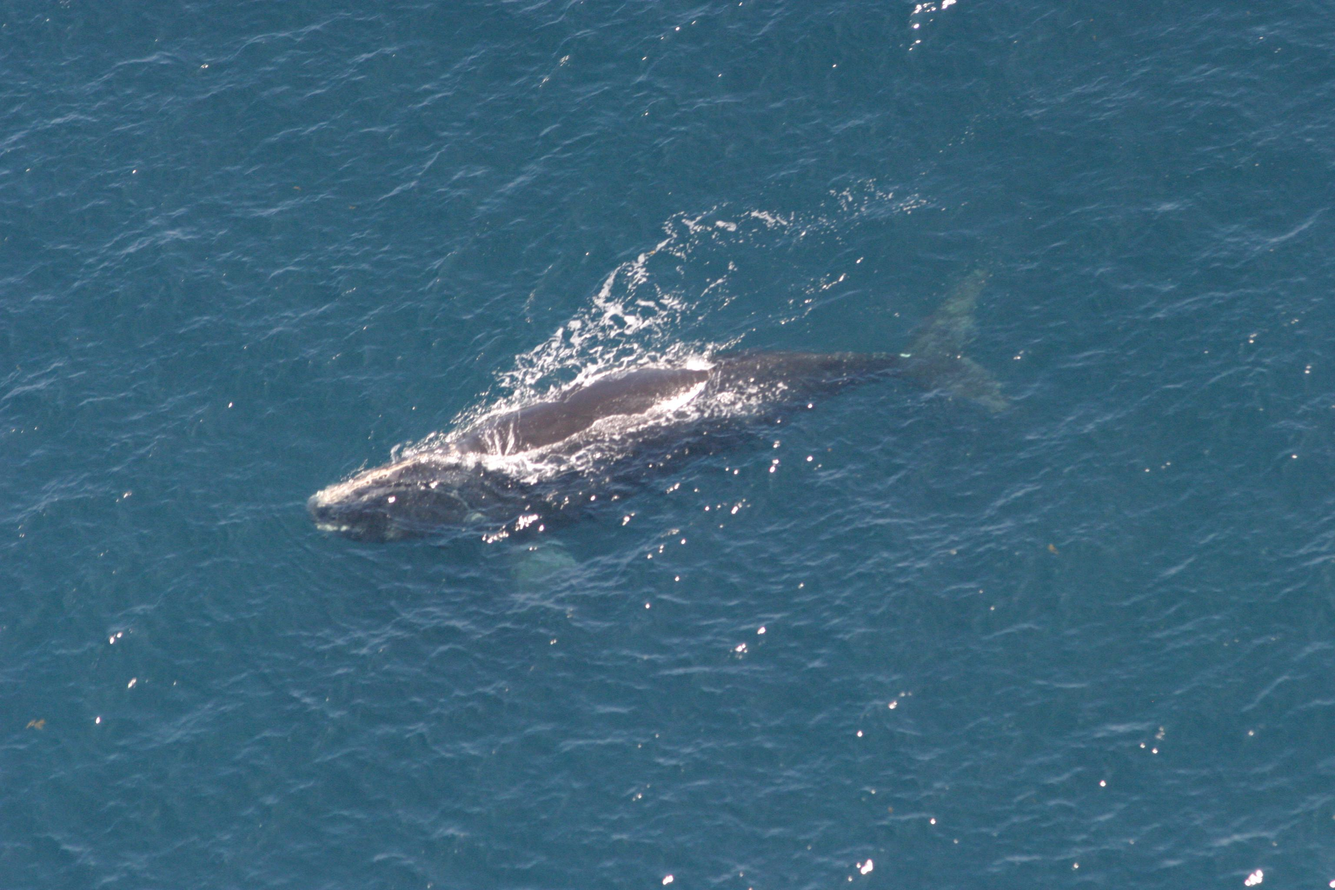whale: (301, 254, 1026, 620)
